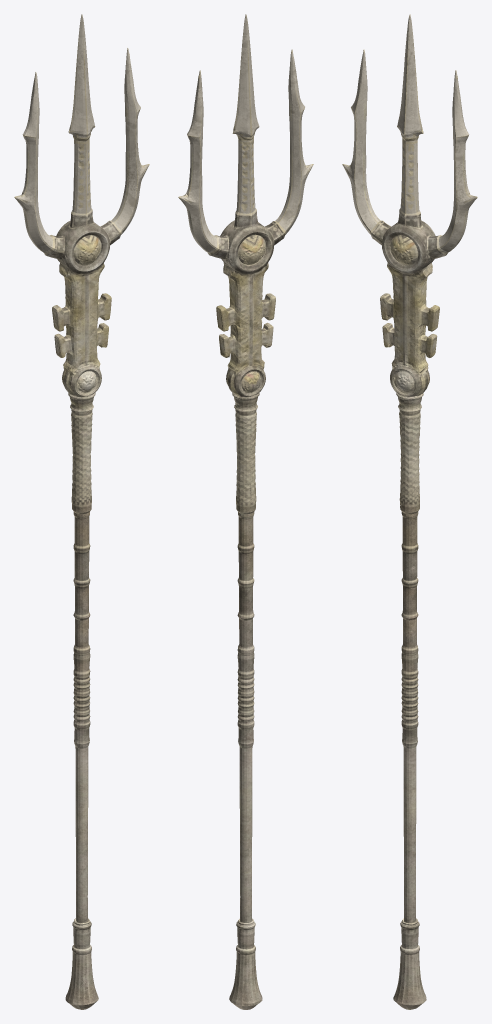
Rendered from poseidons-trident-lowpoly-v3.fbx.
3 renders of one model, left to right at view 1: azimuth 30°, elevation 25°; view 2: azimuth 210°, elevation 25°; view 3: azimuth 330°, elevation 25°, orthographic.
Size of the model in its own units: 8.63 by 60.6 by 2.08.
1 material, 1 textured.
